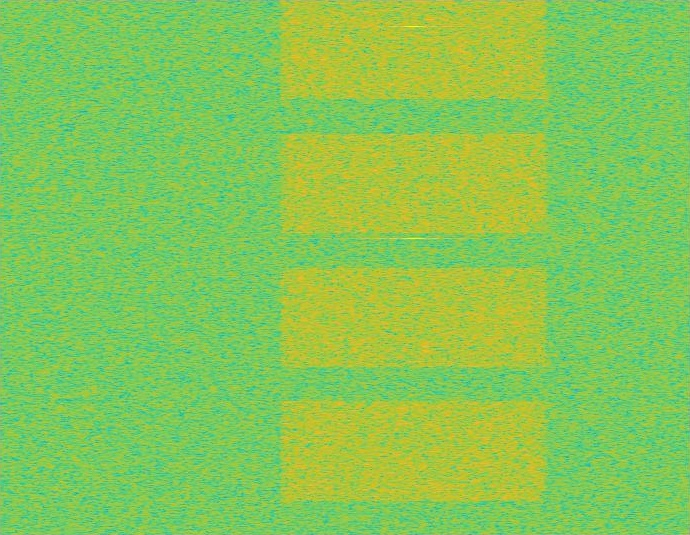5G: (276, 0, 552, 534)
Radar: (407, 0, 421, 534)
